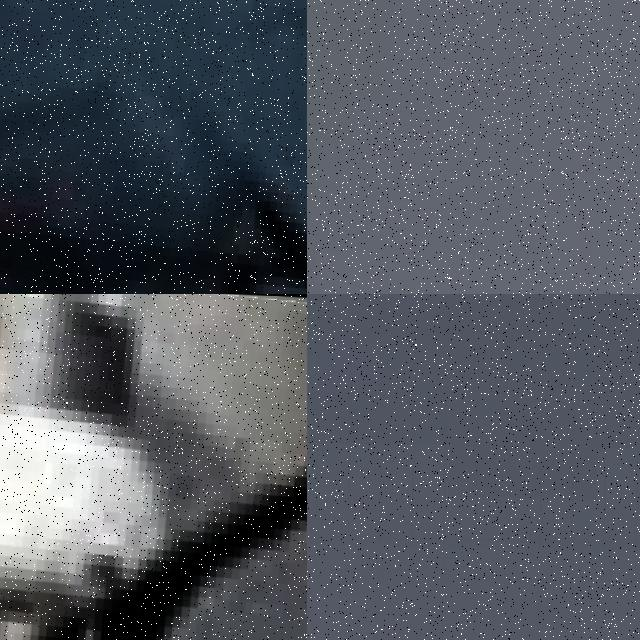drone: (0, 294, 307, 640), (0, 0, 307, 294)
